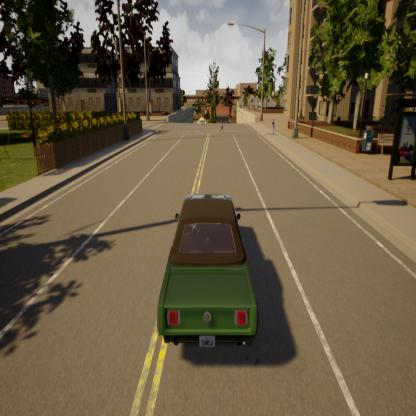Cars: (149, 181, 261, 359)
Pedestrian: (269, 116, 278, 147), (219, 113, 226, 142)
